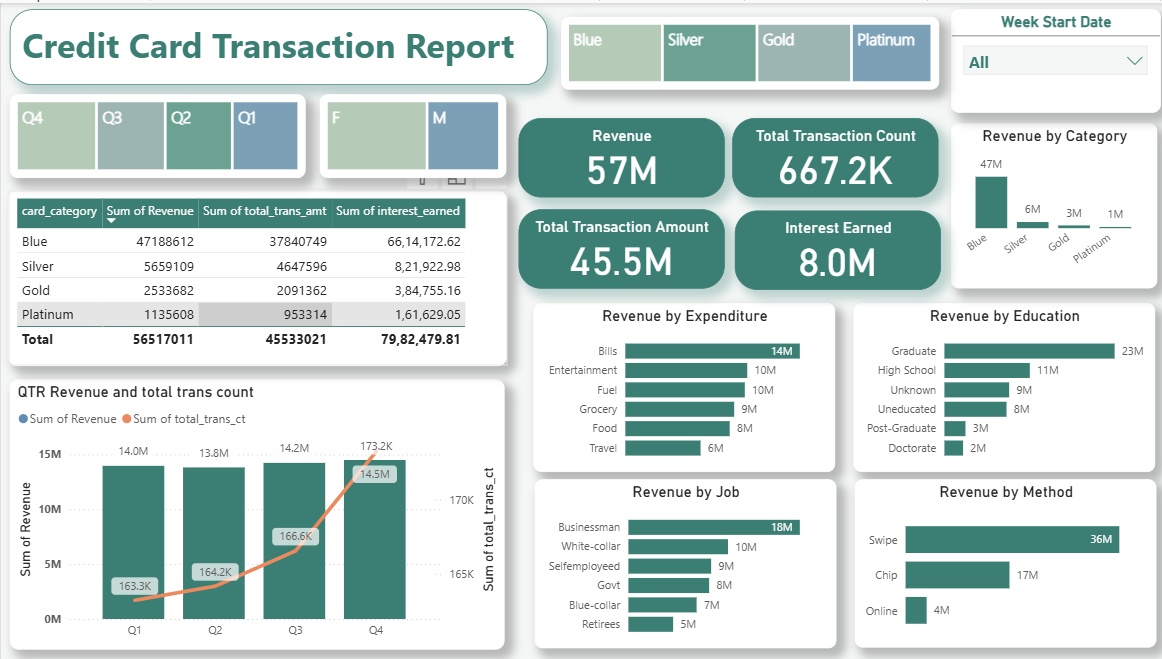

What the dashboard file says about the page in this screenshot:
{"tool":"powerbi","page":{"name":"Transaction Report","canvas":[1280,720],"ordinal":1},"visuals":[{"type":"textbox","box":[10,7.1,590,82.9],"z":0},{"type":"lineStackedColumnComboChart","title":"QTR Revenue and total trans count","fields":{"Category":["public cc_detail.qtr"],"Y":["Sum(public cc_detail.Revenue)"],"Y2":["Sum(public cc_detail.total_trans_ct)"]},"box":[10,412.9,542.9,297.1],"z":1000},{"type":"barChart","title":"Revenue by Expenditure","fields":{"Y":["Sum(public cc_detail.Revenue)"],"Category":["public cc_detail.exp_type"]},"box":[584.4,329.1,331,185.7],"z":2000},{"type":"barChart","title":"Revenue by Education","fields":{"Y":["Sum(public cc_detail.Revenue)"],"Category":["public cust_detail.education_level"]},"box":[936.3,329.1,331,185.7],"z":3000},{"type":"barChart","title":"Revenue by Job","fields":{"Y":["Sum(public cc_detail.Revenue)"],"Category":["public cust_detail.customer_job"]},"box":[585.9,523.4,331,185.7],"z":4000},{"type":"columnChart","title":"Revenue by Category","fields":{"Category":["public cc_detail.card_category"],"Y":["Sum(public cc_detail.Revenue)"]},"box":[1042.2,131.7,226.7,181.7],"z":5000},{"type":"barChart","title":"Revenue by Method","fields":{"Y":["Sum(public cc_detail.Revenue)"],"Category":["public cc_detail.use_chip"]},"box":[936.6,522.9,331,185],"z":6000},{"type":"tableEx","fields":{"Values":["public cc_detail.card_category","Sum(public cc_detail.Revenue)","Sum(public cc_detail.total_trans_amt)","Sum(public cc_detail.interest_earned)"]},"box":[8.6,205.7,547.1,192.9],"z":7000},{"type":"card","title":"Revenue","fields":{"Values":["Sum(public cc_detail.Revenue)"]},"box":[568.2,126.4,226,87],"z":8000},{"type":"card","title":"Total Transaction  Amount","fields":{"Values":["Sum(public cc_detail.total_trans_amt)"]},"box":[568.5,226.4,226,87],"z":9000},{"type":"card","title":"Interest Earned ","fields":{"Values":["Sum(public cc_detail.interest_earned)"]},"box":[805.8,228.2,226,87],"z":10000},{"type":"card","title":"Total Transaction Count","fields":{"Values":["Sum(public cc_detail.total_trans_ct)"]},"box":[802.6,126.7,226,87],"z":11000},{"type":"slicer","title":"Week Start Date","fields":{"Values":["public cc_detail.week_start_date"]},"box":[1042.2,6.7,230,113.3],"z":12000},{"type":"treemap","fields":{"Group":["public cc_detail.qtr"],"Values":["Sum(public cc_detail.client_num)"]},"box":[10,100,325,91.7],"z":13000},{"type":"treemap","fields":{"Values":["Sum(public cc_detail.client_num)"],"Group":["public cust_detail.gender"]},"box":[350,100,205,91.7],"z":14000},{"type":"treemap","fields":{"Values":["Max(public cc_detail.client_num)"],"Group":["public cc_detail.card_category"]},"box":[615,15,415,80],"z":15000}]}

Visuals, with their boxes in screenshot pixels (x1, y1, x2, y2), scaled from the page's 1280x720 canvas onto the 1162x659 screenshot:
textbox: Rect(9, 6, 545, 82)
"QTR Revenue and total trans count" lineStackedColumnComboChart: Rect(9, 378, 502, 650)
"Revenue by Expenditure" barChart: Rect(531, 301, 831, 471)
"Revenue by Education" barChart: Rect(850, 301, 1150, 471)
"Revenue by Job" barChart: Rect(532, 479, 832, 649)
"Revenue by Category" columnChart: Rect(946, 121, 1152, 287)
"Revenue by Method" barChart: Rect(850, 479, 1151, 648)
tableEx - public cc_detail.card_category x Sum(public cc_detail.Revenue): Rect(8, 188, 504, 365)
"Revenue" card: Rect(516, 116, 721, 195)
"Total Transaction  Amount" card: Rect(516, 207, 721, 287)
"Interest Earned " card: Rect(732, 209, 937, 288)
"Total Transaction Count" card: Rect(729, 116, 934, 196)
"Week Start Date" slicer: Rect(946, 6, 1155, 110)
treemap - public cc_detail.qtr x Sum(public cc_detail.client_num): Rect(9, 92, 304, 175)
treemap - Sum(public cc_detail.client_num) x public cust_detail.gender: Rect(318, 92, 504, 175)
treemap - Max(public cc_detail.client_num) x public cc_detail.card_category: Rect(558, 14, 935, 87)
